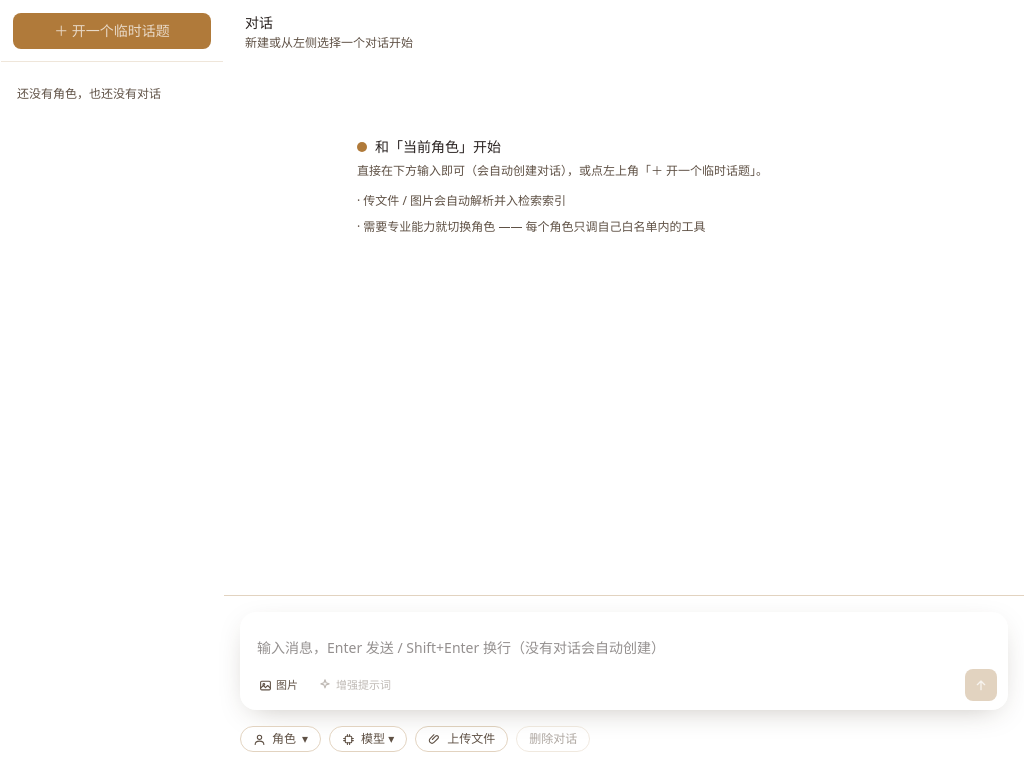
Scenario: ChatPage 流式渲染 › 流结束后以服务端回放为准：用户消息与权威文本都在
The width and height of the screenshot is (1024, 768).
Type "问一句" into the text box with placeholder "输入消息，Enter 发送 / Shift+Enter 换行（没有对话会自动创建）" at (624, 644), box [241,625,1007,664]
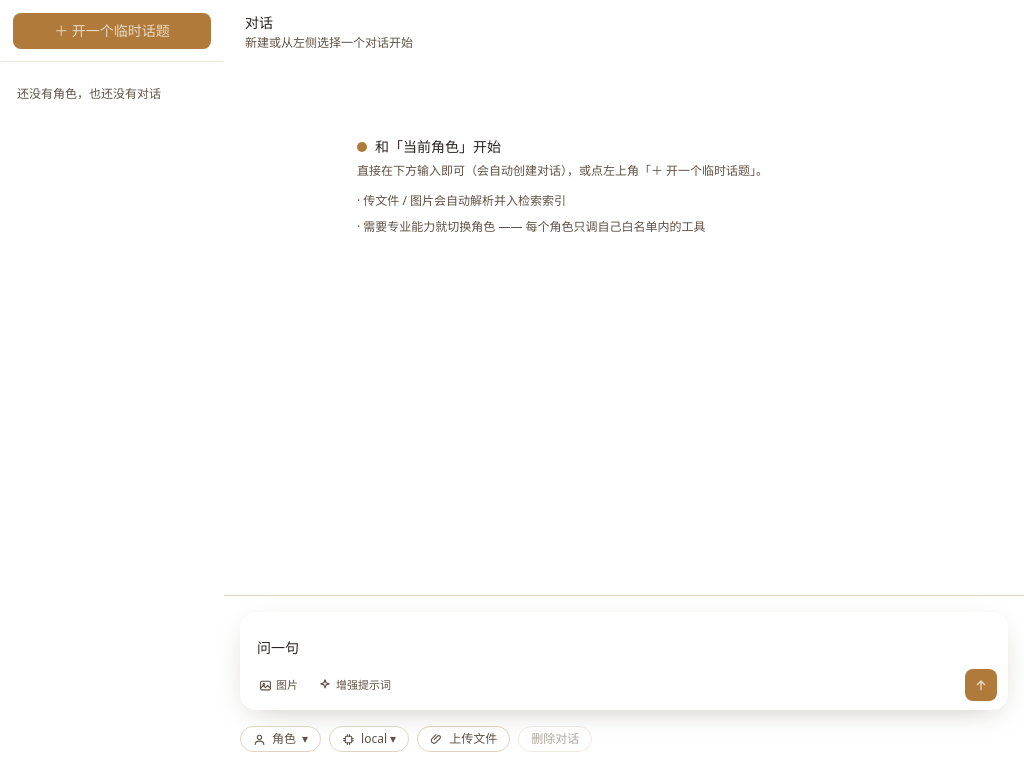
Click the button named "发送" at (981, 685), box [965,669,997,701]
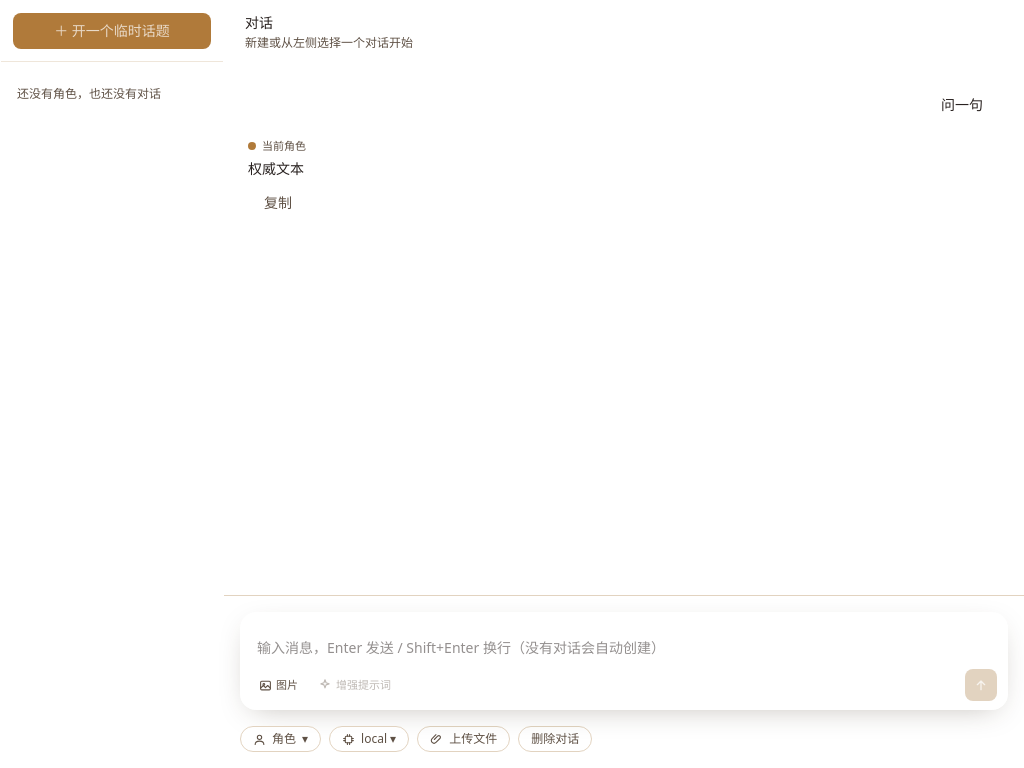
Result: the text "问一句" is shown at [941,95,983,115]
Result: the text "权威文本" is shown at [248,159,304,178]
